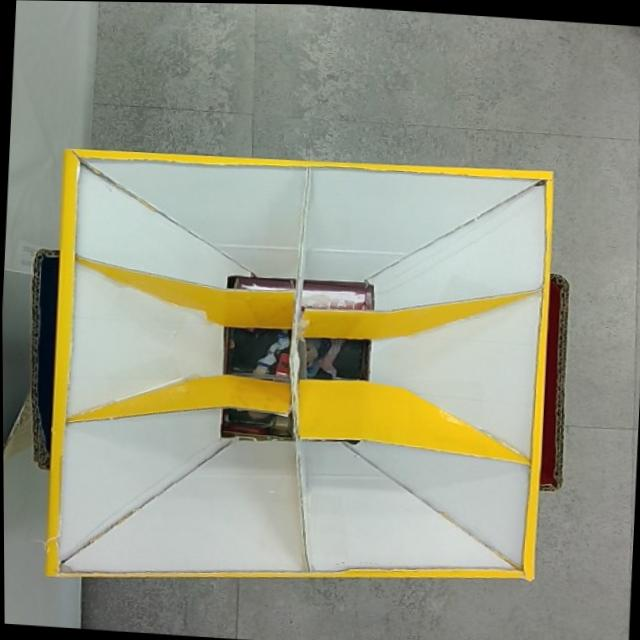box: (16, 136, 580, 611)
